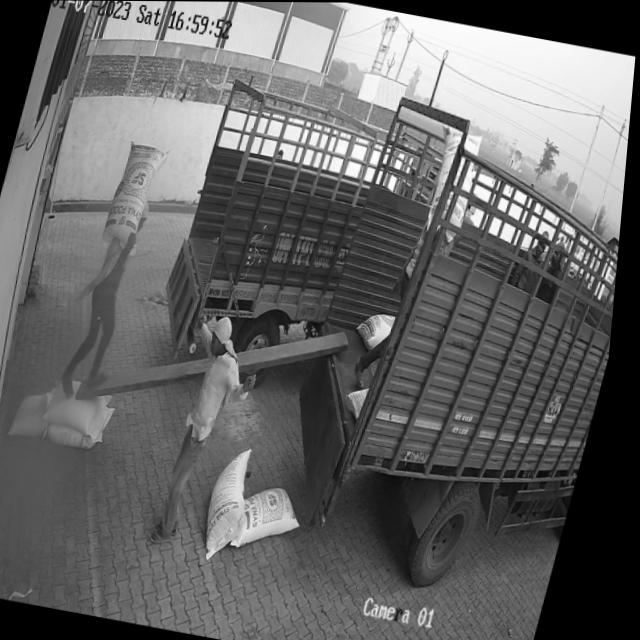sack: (102, 140, 172, 255), (204, 445, 269, 562), (240, 480, 317, 554), (47, 375, 121, 436), (51, 395, 121, 451), (14, 387, 62, 442)
